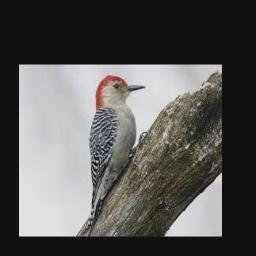Woodpecker: (78, 75, 145, 236)
